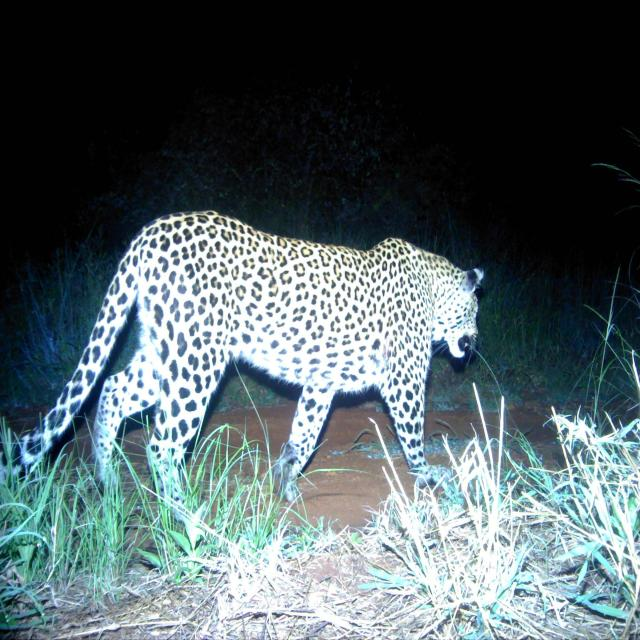Leopard: (16, 220, 487, 512)
